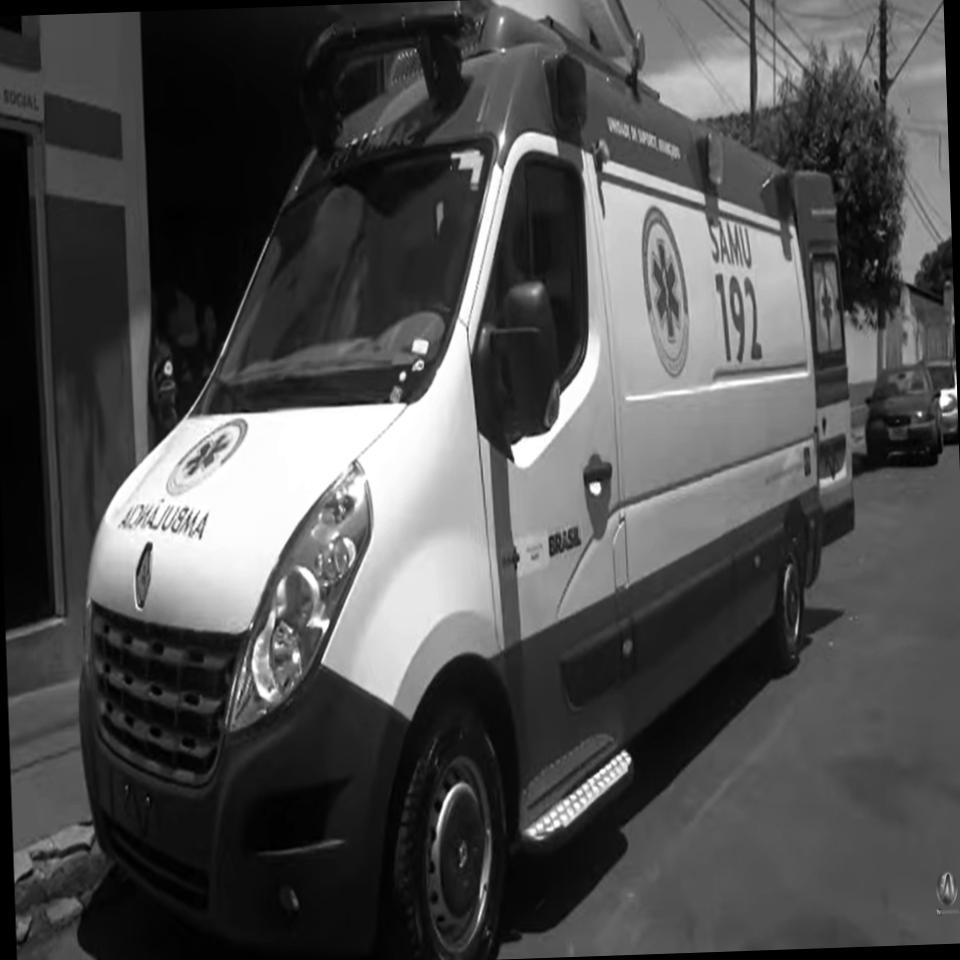bombeiro: (47, 0, 868, 960)
